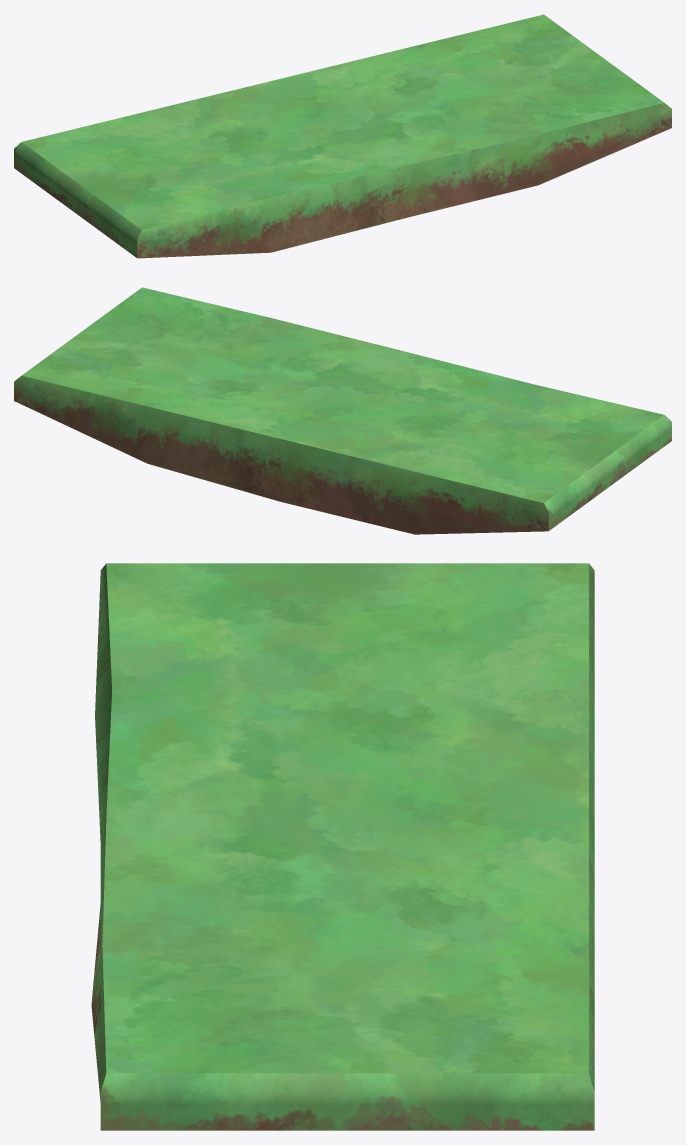
Rendered from Platform_001.FBX.
3 renders of one model, top to bottom at view 1: azimuth 30°, elevation 25°; view 2: azimuth 150°, elevation 25°; view 3: azimuth 270°, elevation 25°, orthographic. The views are drawn at different scales.
Visible parts, largest first — view 1: Box004; view 2: Box004; view 3: Box004.
Boxes of the visible parts, <box> form: Box004: <box>14,14,671,258</box>; Box004: <box>14,287,671,534</box>; Box004: <box>91,563,594,1130</box>.
Size of the model in its own units: 50 by 7.38 by 20.38.
